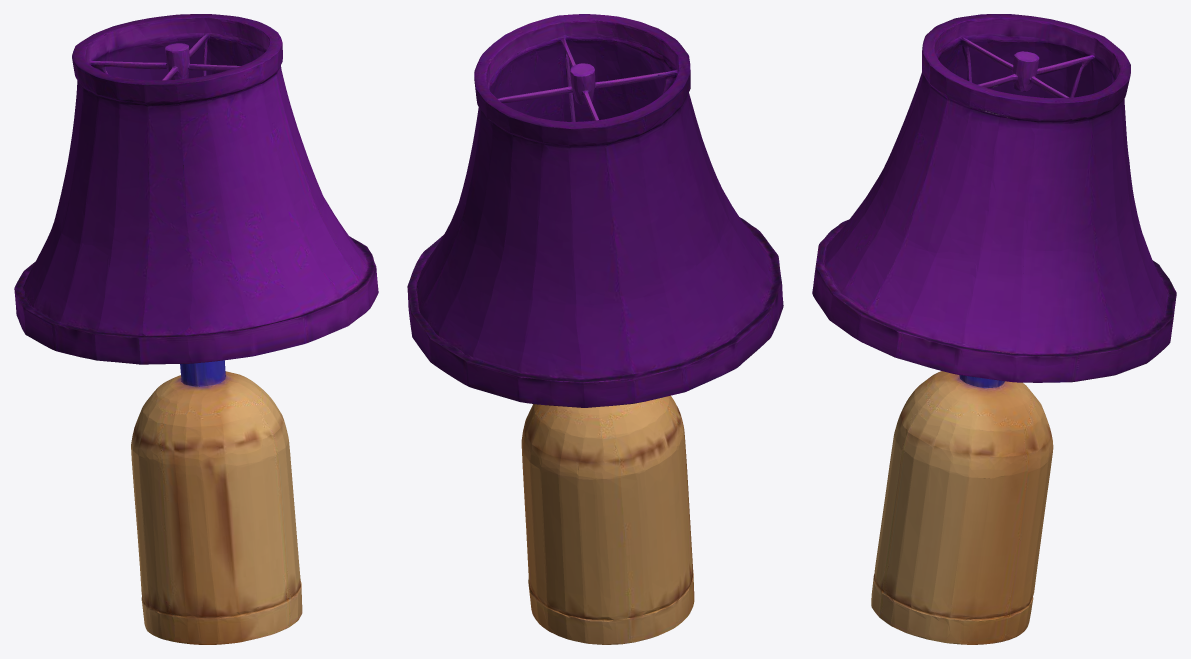
The model's file is purple_table_lamp_on_side_table_000.glb.
3 renders of one model, left to right at view 1: azimuth 30°, elevation 25°; view 2: azimuth 150°, elevation 25°; view 3: azimuth 270°, elevation 25°, orthographic. The views are drawn at different scales.
Parts seen in each view (by area): view 1: purple_table_lamp_on_side_table_000.obj; view 2: purple_table_lamp_on_side_table_000.obj; view 3: purple_table_lamp_on_side_table_000.obj.
Part boxes in pixels (x1,y1,x2,y2): purple_table_lamp_on_side_table_000.obj: [14, 14, 378, 644]; purple_table_lamp_on_side_table_000.obj: [407, 14, 783, 644]; purple_table_lamp_on_side_table_000.obj: [812, 14, 1176, 644].
Bounding box in the file's own units: 0.2318 × 0.4002 × 0.2319.
1 material, 1 textured.
